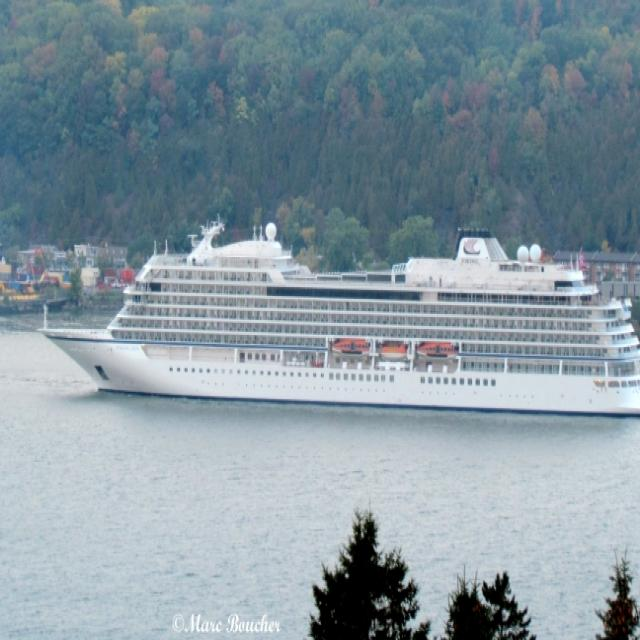cruises: (32, 211, 640, 434)
